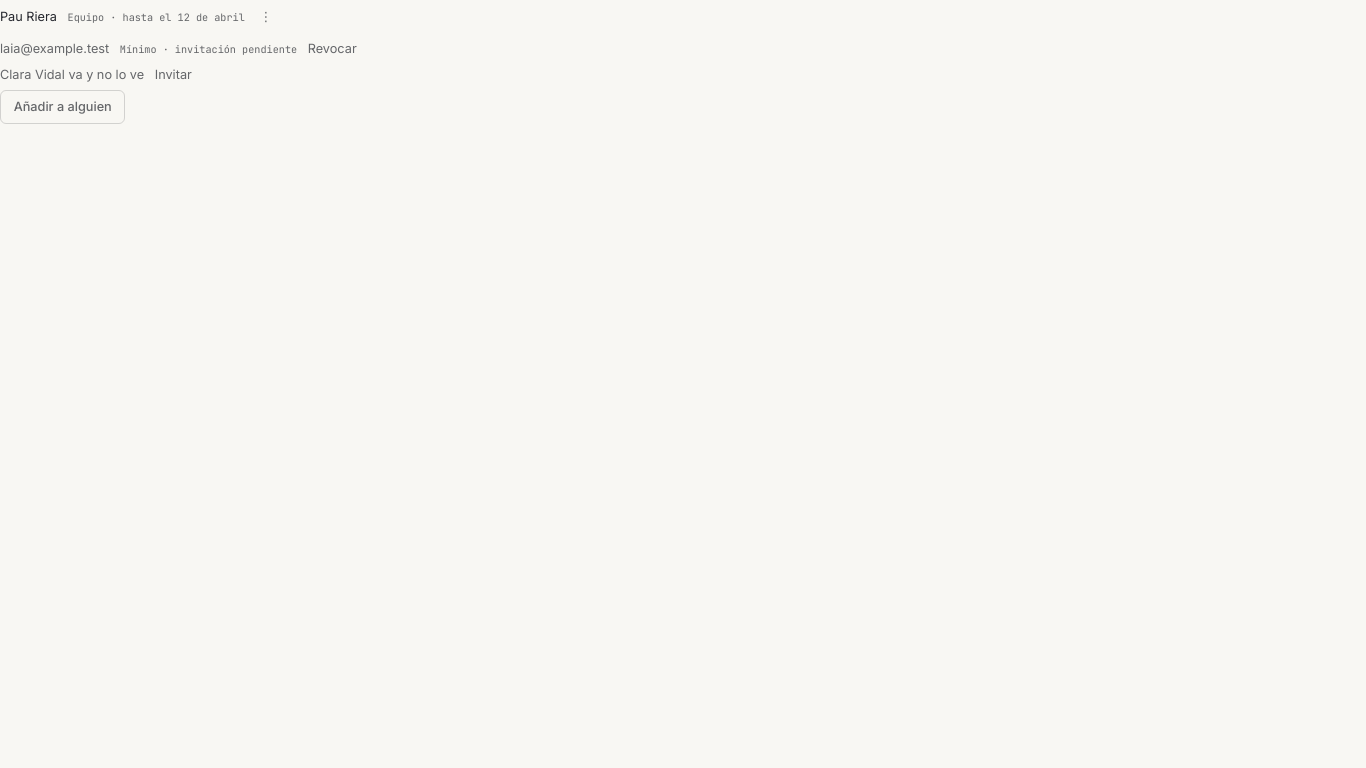
Test: BoloAccess › «Invitar» desde quién va crea la invitación con la persona y deja el enlace
The width and height of the screenshot is (1366, 768).
Click the button with aria-label "Invitar a Clara Vidal al bolo". click: (173, 74)
box: [155,65,192,84]
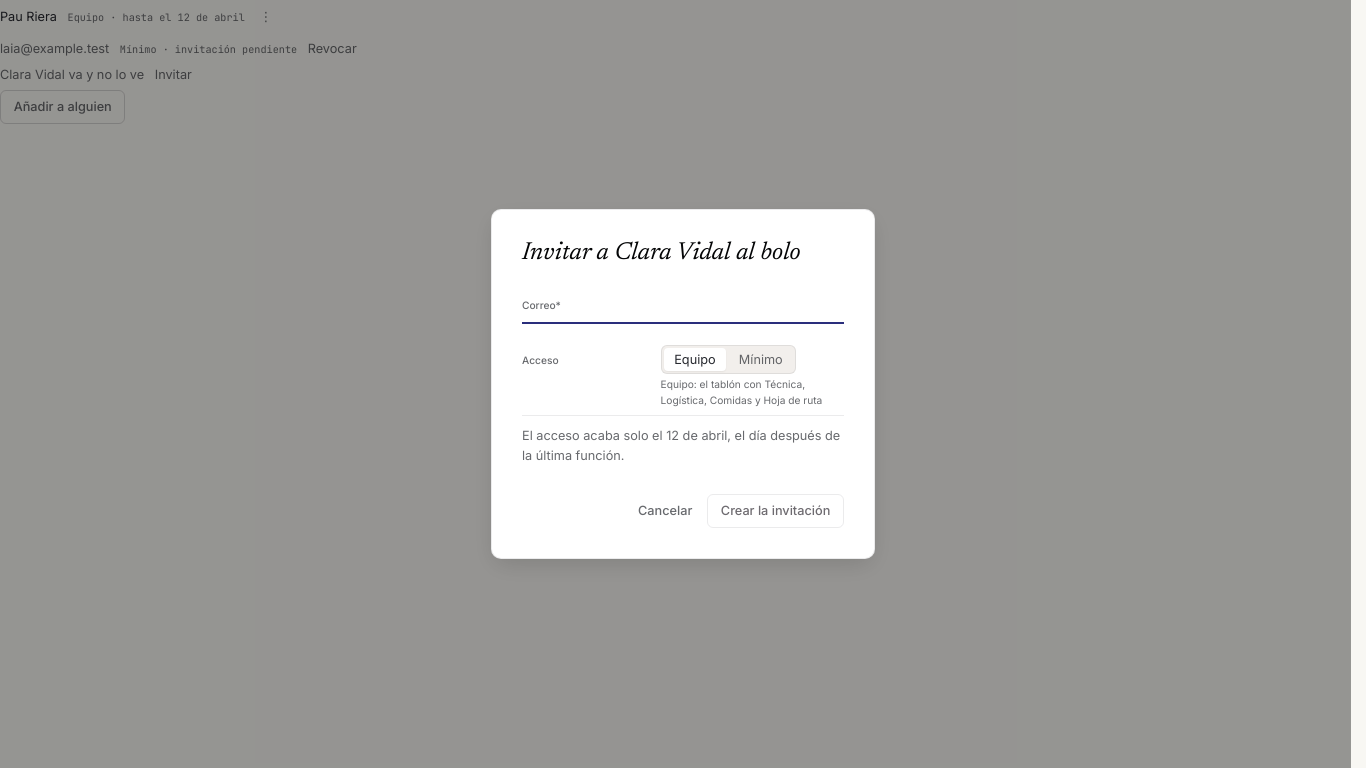
Type "clara@example.test" into the field labelled "Correo*". click: (752, 304)
box: [661,286,844,322]
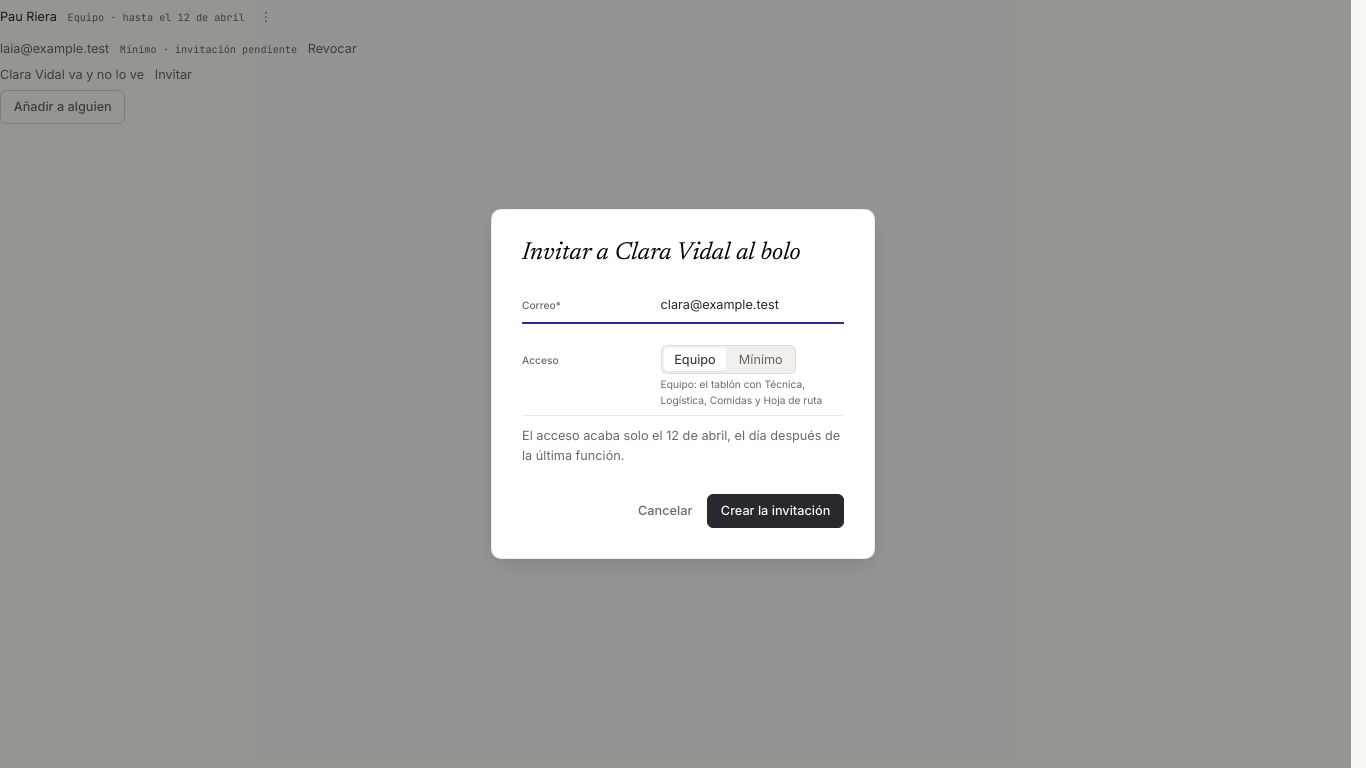
Click the button "Crear la invitación". click: (776, 511)
box: [707,494,844,528]
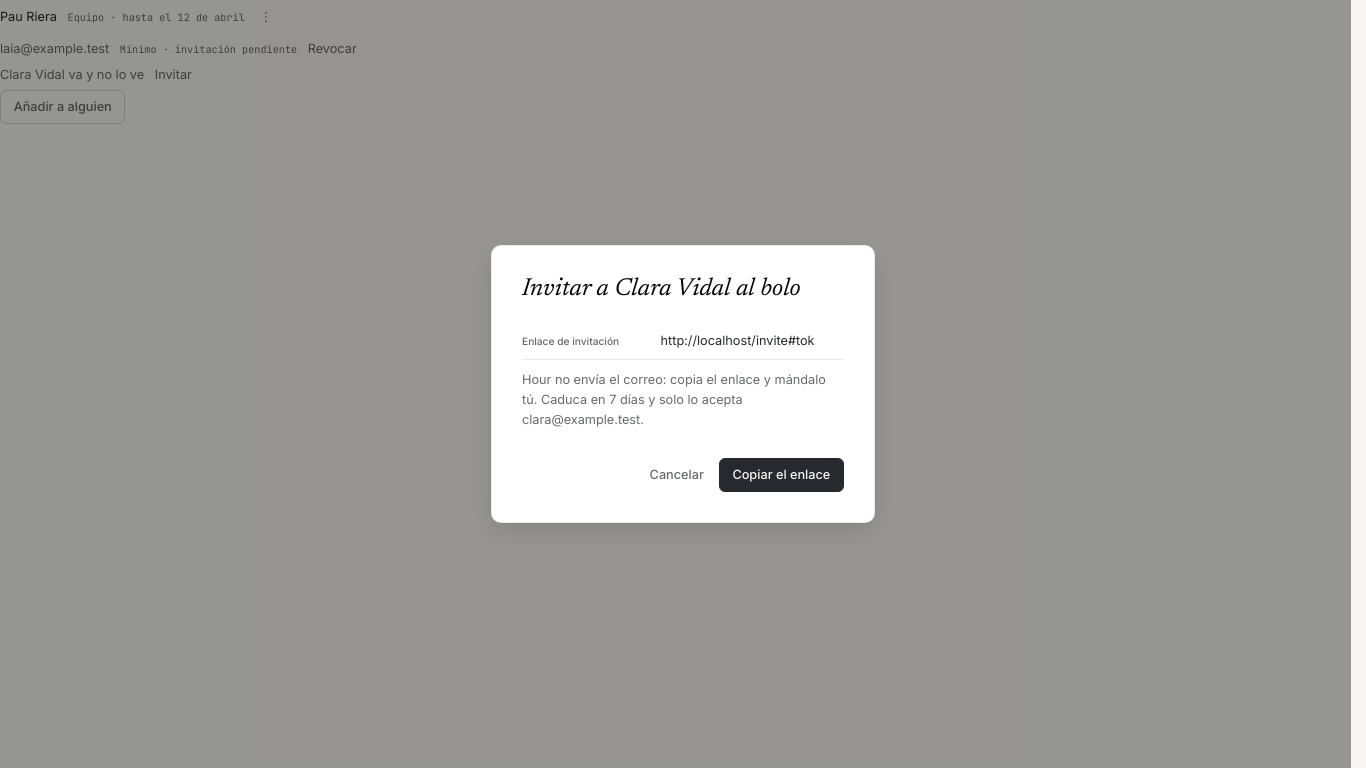
expect the field labelled "Enlace de invitación" holds "http://localhost/invite#tok": met, box [661,323,844,359]
expect the text "Hour no envía el correo" is shown: met, box [522,372,826,427]
